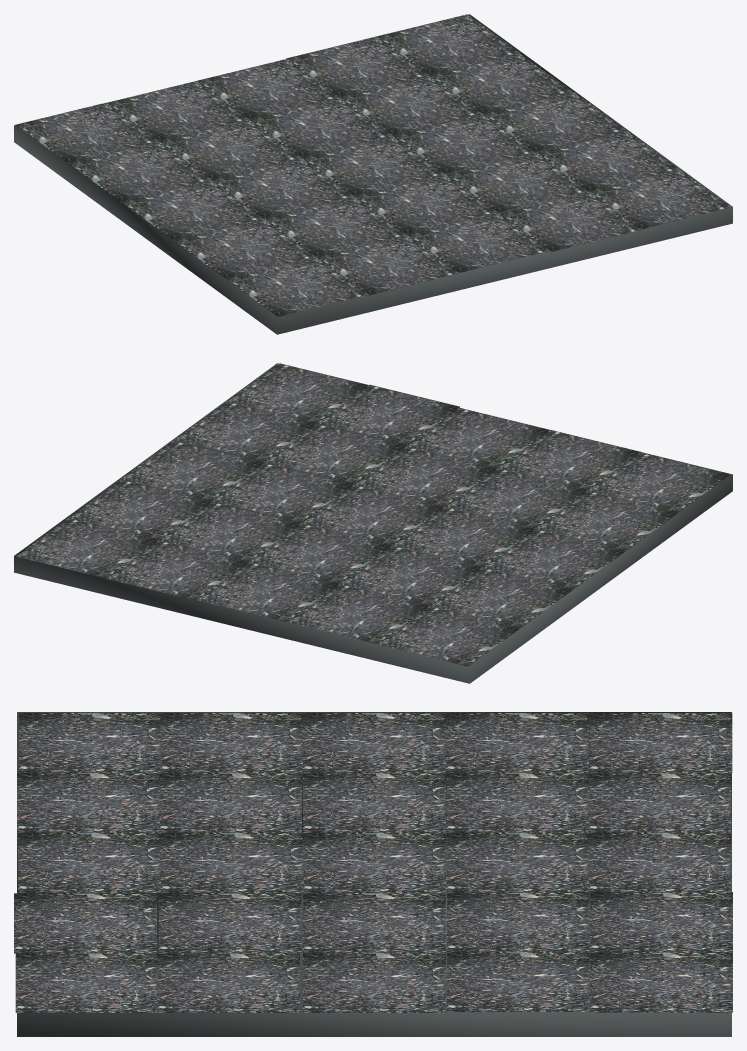
File: wall.fbx
The picture shows the model from 3 angles, top to bottom: view 1: azimuth 30°, elevation 25°; view 2: azimuth 150°, elevation 25°; view 3: azimuth 270°, elevation 25°; orthographic projection. The views are drawn at different scales.
Parts seen in each view (by area): view 1: 平面.024; view 2: 平面.024; view 3: 平面.024.
Part boxes in pixels (left/top/right/bottom): 平面.024: left=14, top=14, right=732, bottom=334; 平面.024: left=14, top=363, right=732, bottom=683; 平面.024: left=14, top=712, right=732, bottom=1036.
Bounding box in the file's own units: 200 × 7.08 × 201.
